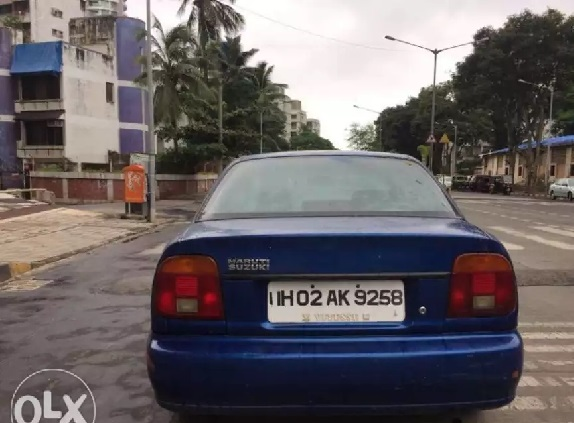licenseplate: (264, 276, 409, 324)
